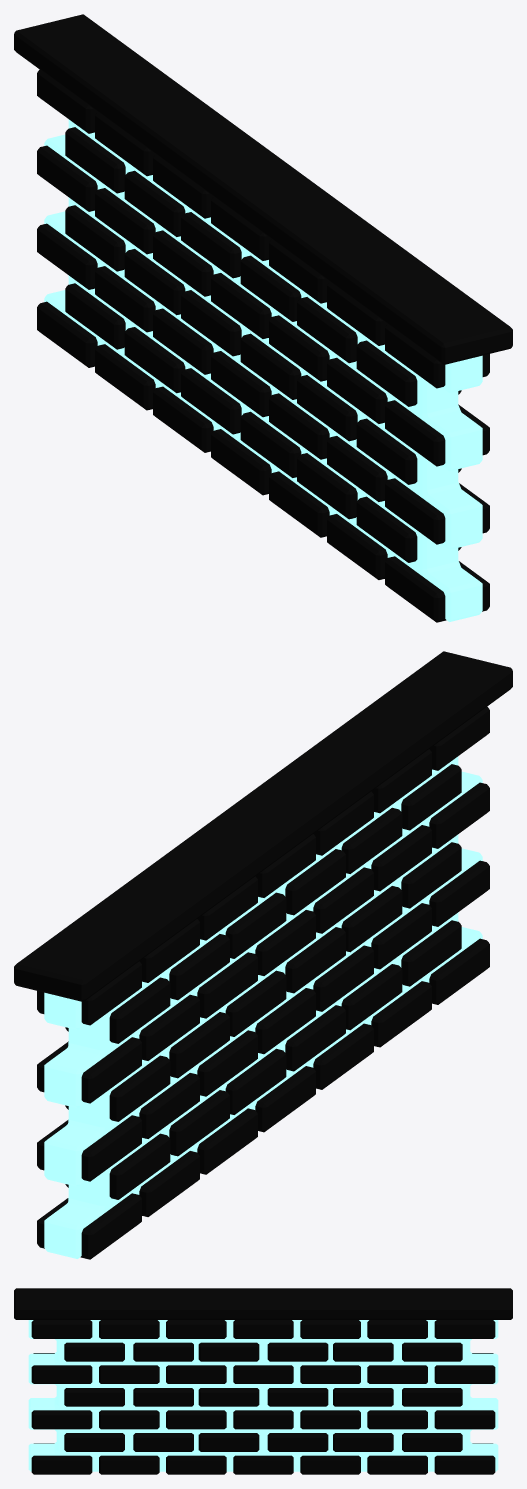
File: Lvl 1 FireWall.fbx
The picture shows the model from 3 angles, top to bottom: view 1: azimuth 30°, elevation 25°; view 2: azimuth 150°, elevation 25°; view 3: azimuth 270°, elevation 25°; orthographic projection. The views are drawn at different scales.
Parts seen in each view (by area): view 1: Firewall; view 2: Firewall; view 3: Firewall.
Boxes of the visible parts, x1,y1,x2,y2 form: Firewall: [14, 14, 512, 622]; Firewall: [14, 651, 512, 1259]; Firewall: [14, 1288, 512, 1474].
Bounding box in the file's own units: 0.4375 × 1.71 × 4.55.
